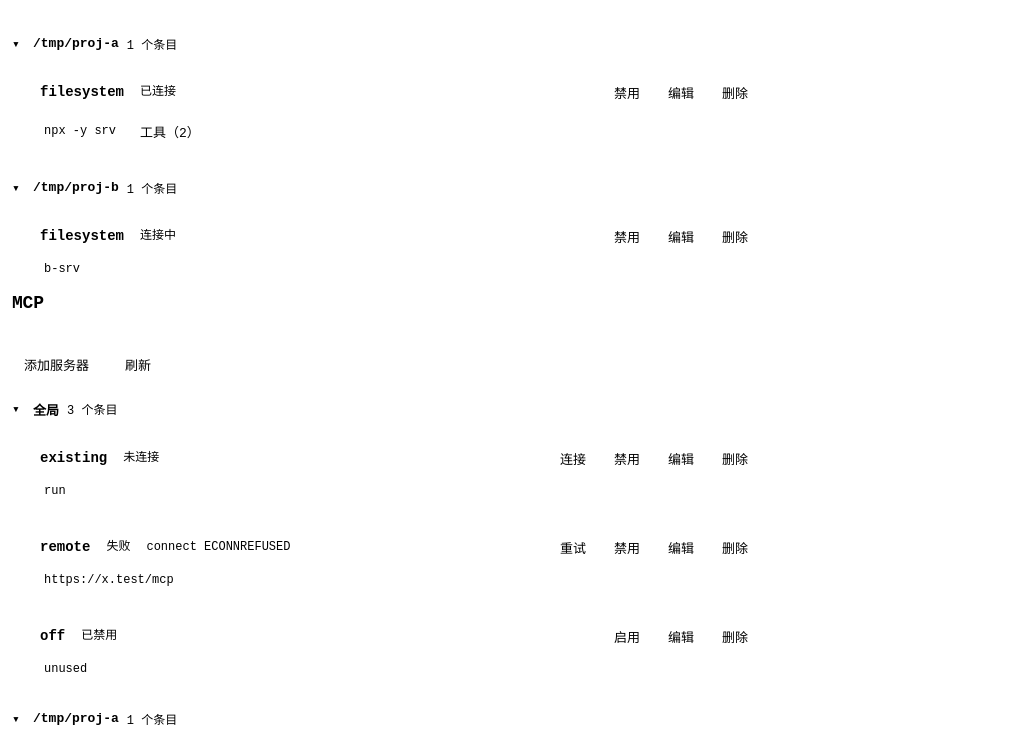
Test case: McpView form (add / edit / move / delete) › falls back to the daemon workspace, then global, when no session is selected
(page scrolled)
Click the button with test id "mcp-add". click: (56, 364)
box: [12,348,101,380]
(page scrolled)
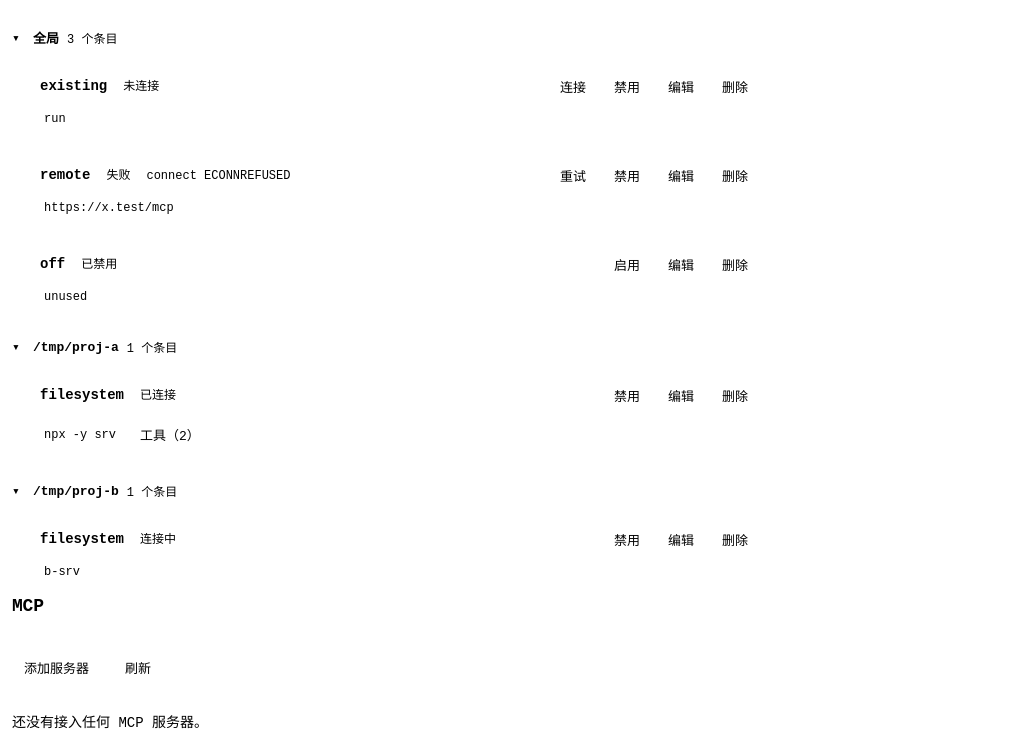
Click the button with test id "mcp-add". click: (56, 668)
box: [12,652,101,683]
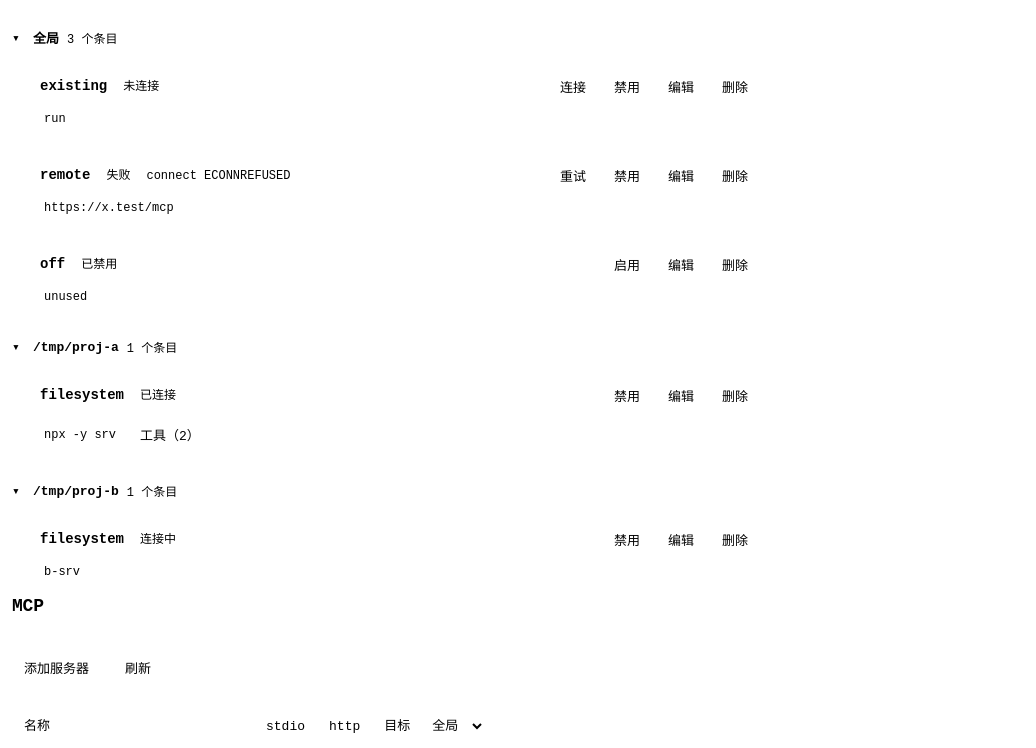
Expected: the dropdown with test id "mcp-form-group" shows "全局", [418,711,485,742]
